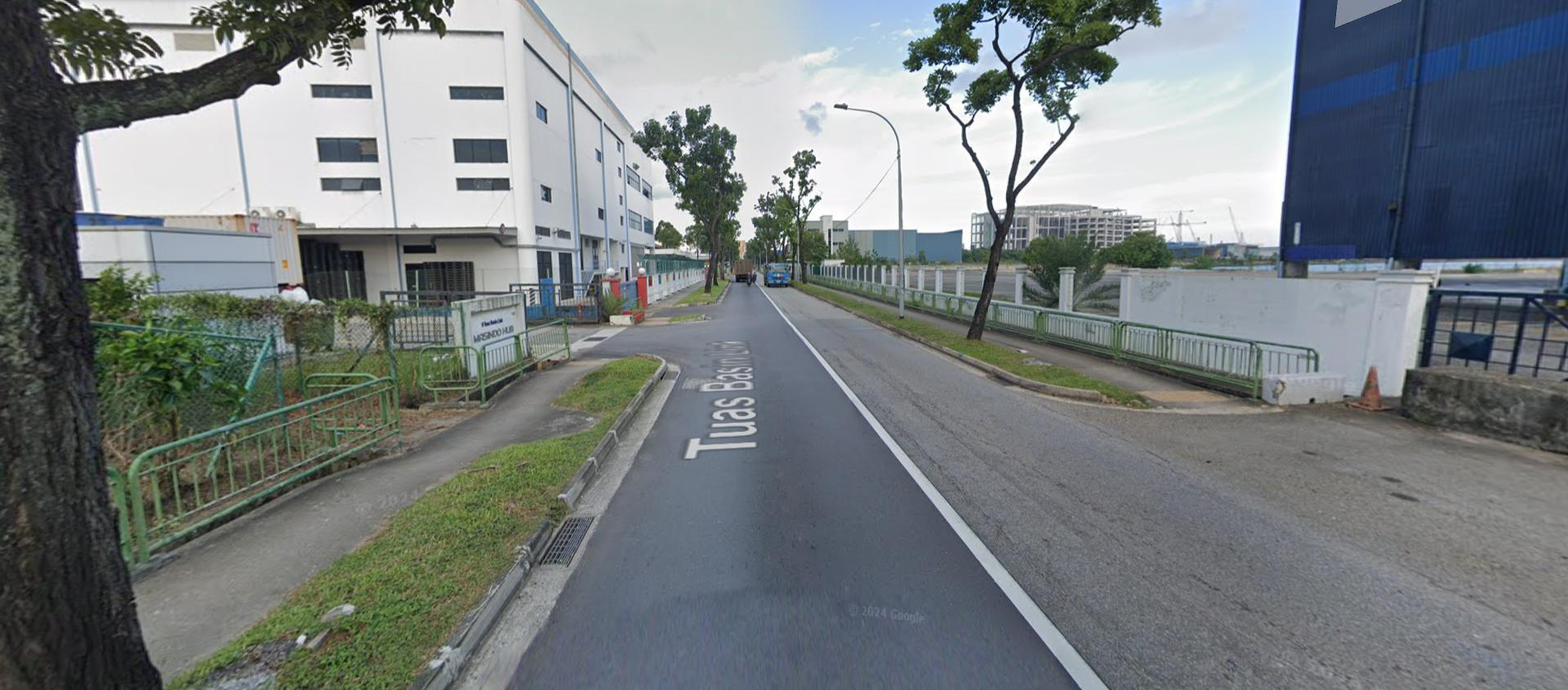defect: (538, 516, 597, 568)
